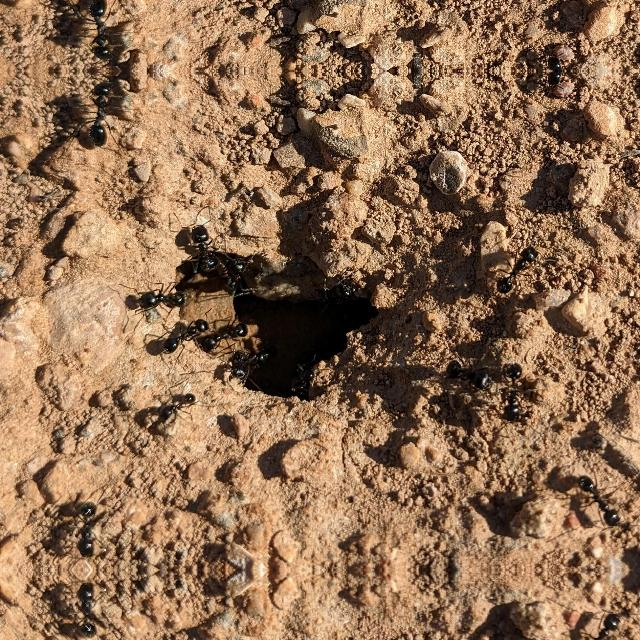Messor: (572, 464, 622, 532), (78, 74, 124, 144), (78, 0, 123, 66), (120, 280, 190, 316), (496, 233, 538, 291), (179, 216, 219, 268), (194, 314, 246, 350), (460, 362, 528, 388), (73, 499, 105, 553), (73, 585, 105, 639), (160, 320, 210, 354), (572, 606, 622, 640), (227, 346, 275, 380), (153, 388, 197, 420), (499, 382, 528, 422), (320, 277, 358, 305), (288, 358, 316, 394)
